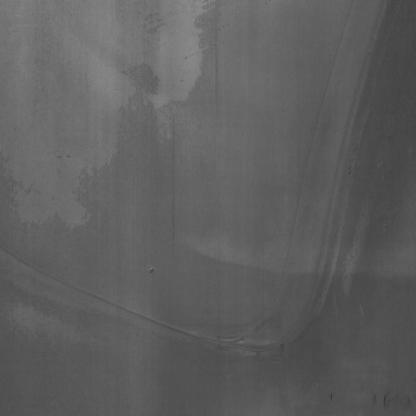crease: (287, 2, 399, 357), (13, 244, 285, 374)
